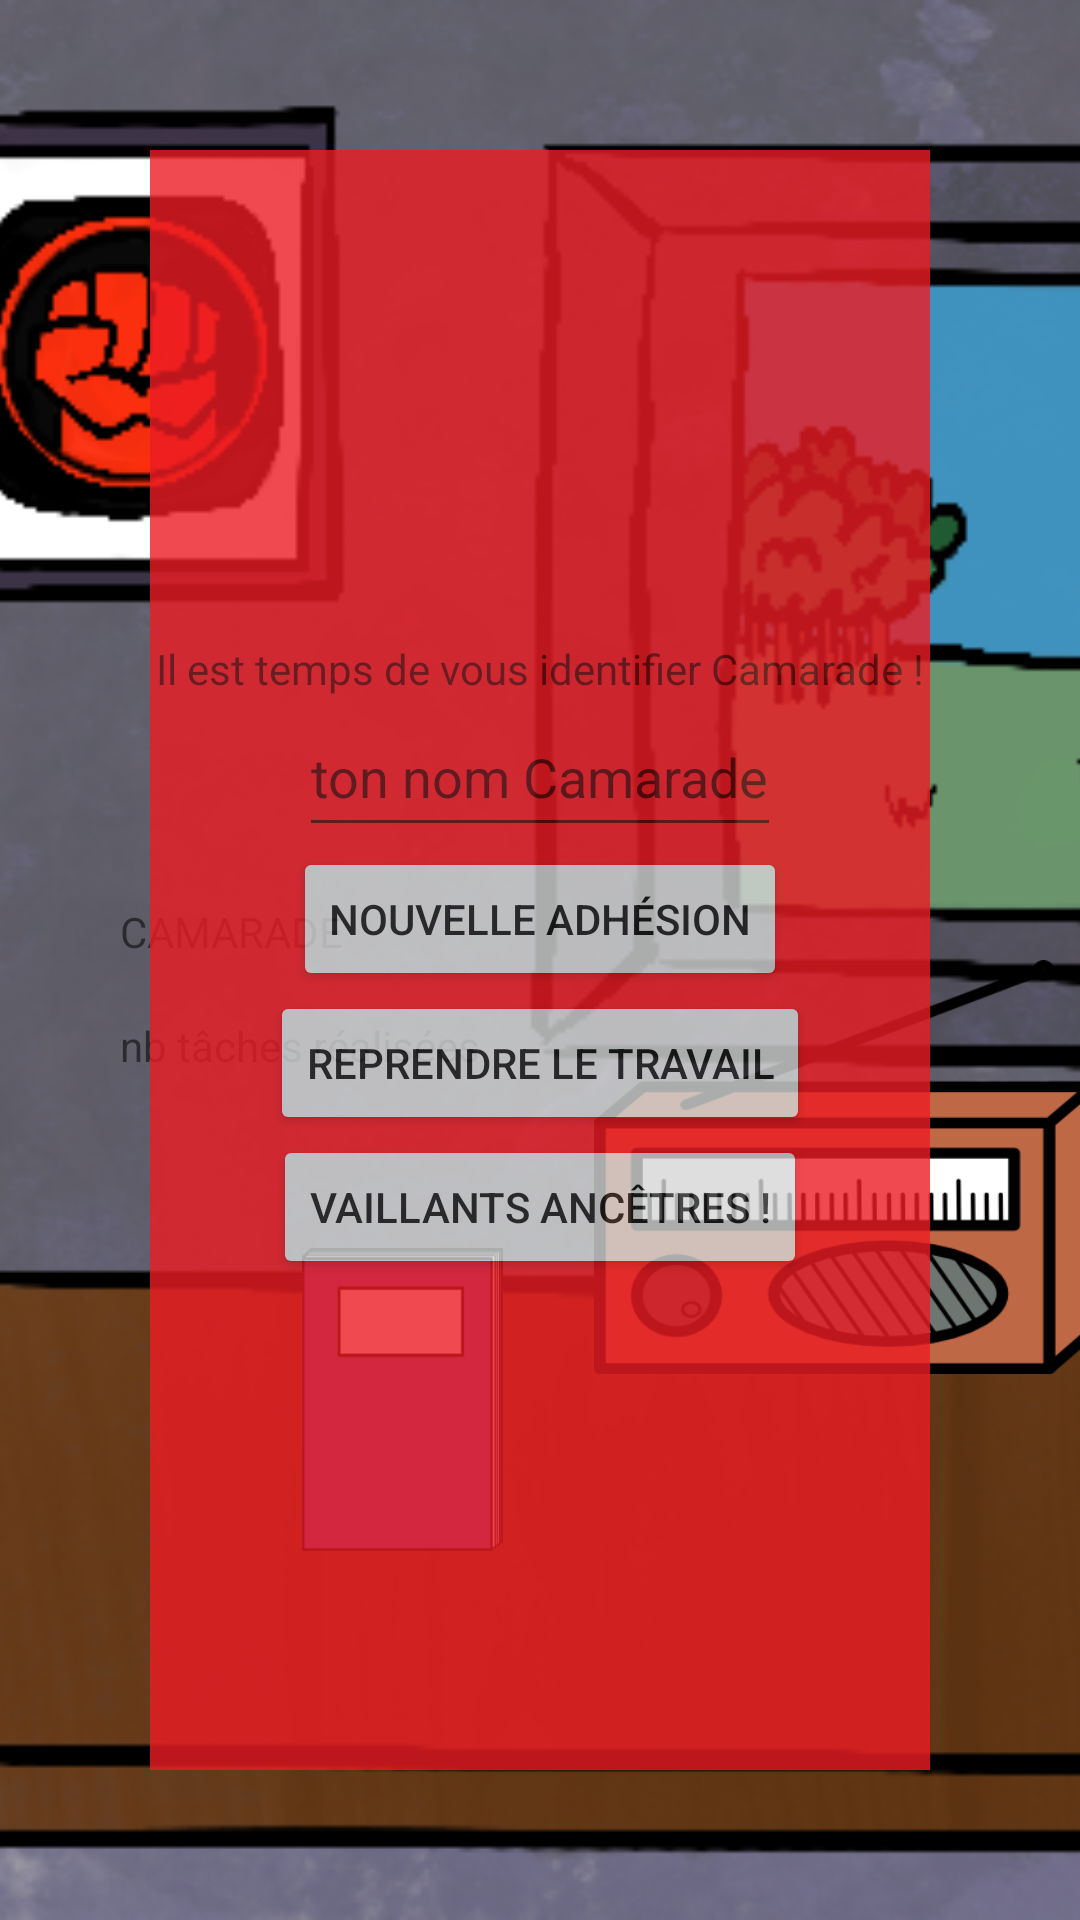

Icons on this 1080px x 1920px Android screen, each with the point to tap as [x,y]:
dossier: [402,1398]
